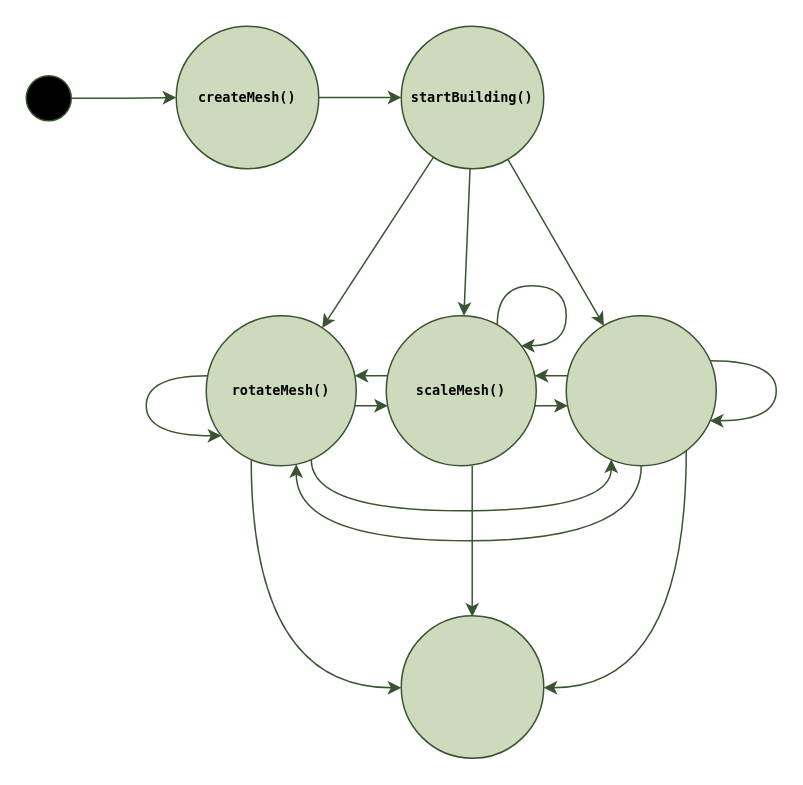
The diagram is 803 pixels wide and 785 high, and some of its shapes have lost their labels. Each missing label, with the centre of its shape:
finishBuilding(): the point at 472,686
translateMesh(): the point at 640,390
